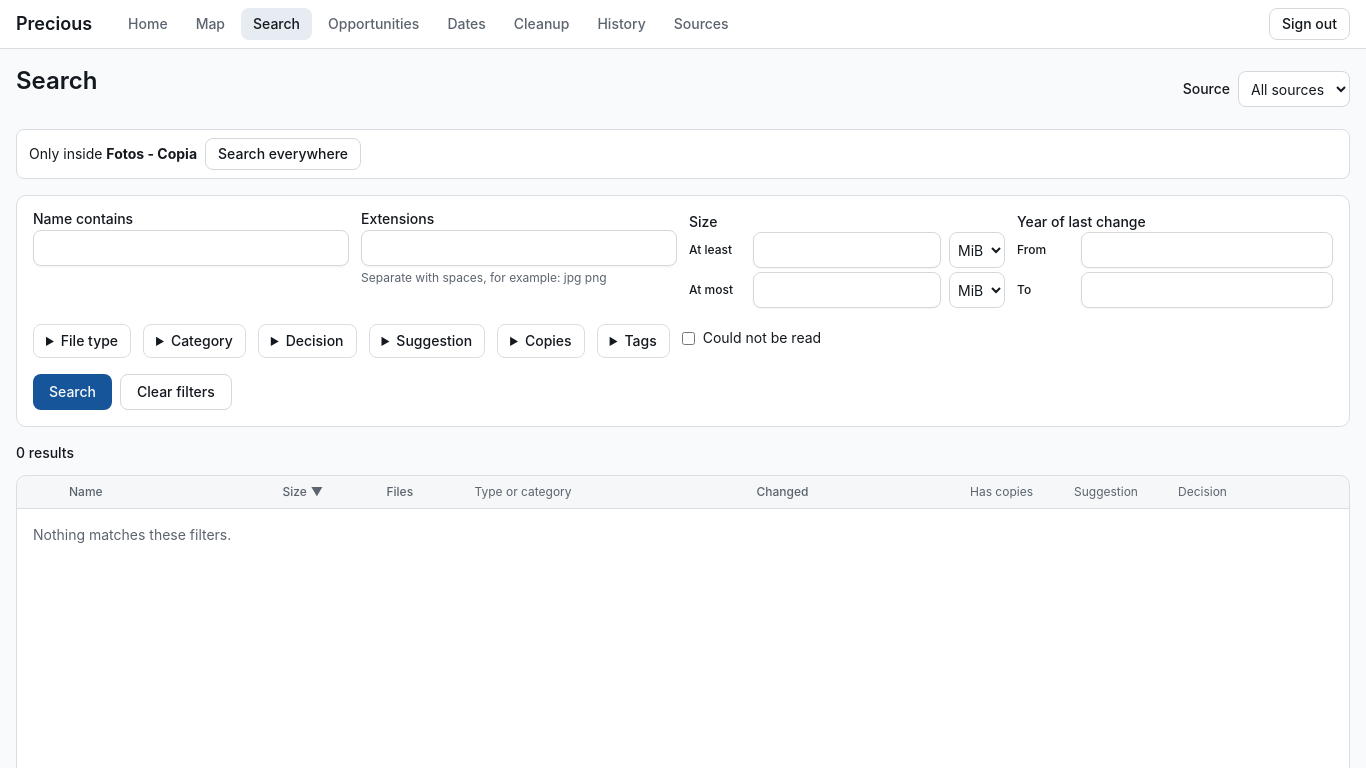
Test case: Search duplicate filter › searches by duplicate state, with copies outside only inside a folder
Click the heading "Copies": click(548, 340) [525,332,572,349]
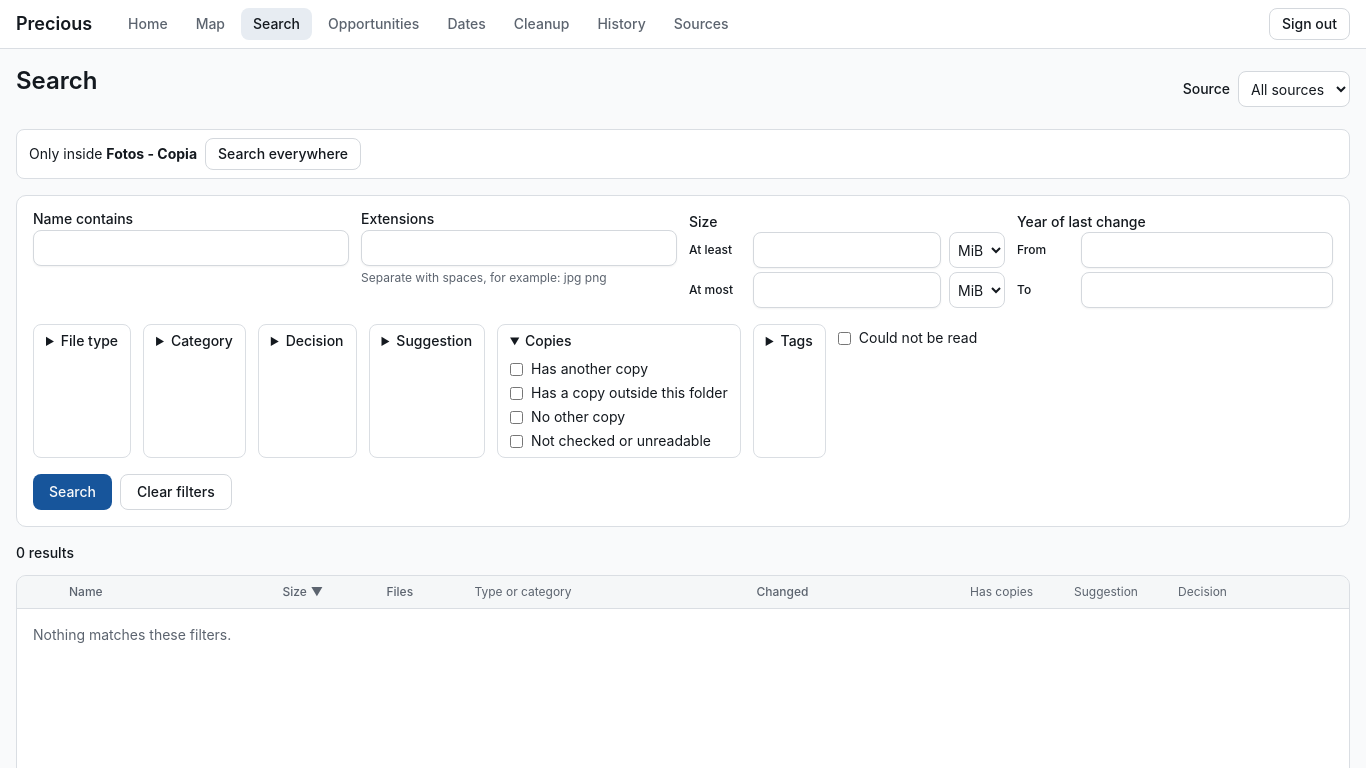
Click the checkbox labelled "Has a copy outside this folder": click(517, 393) [510,386,523,400]
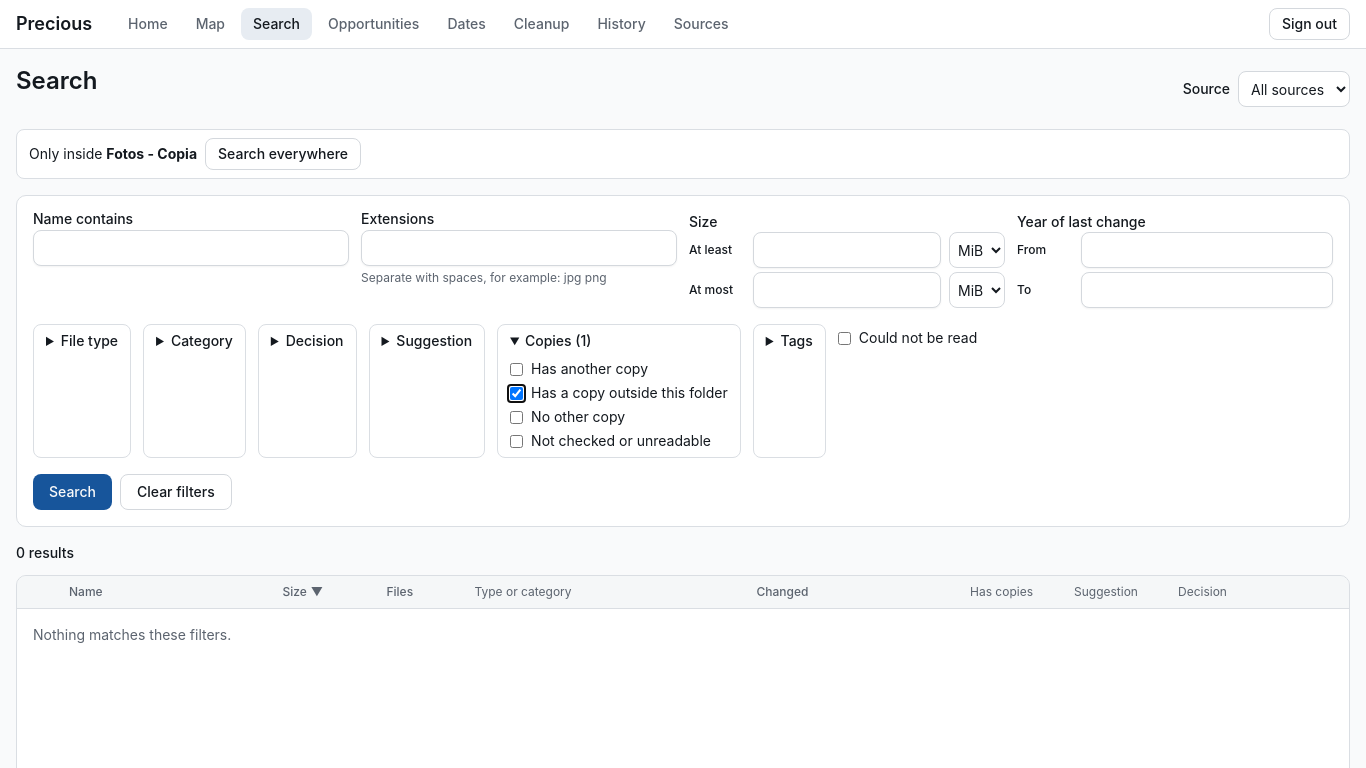
Click the button "Search": click(72, 492) [33,474,112,510]
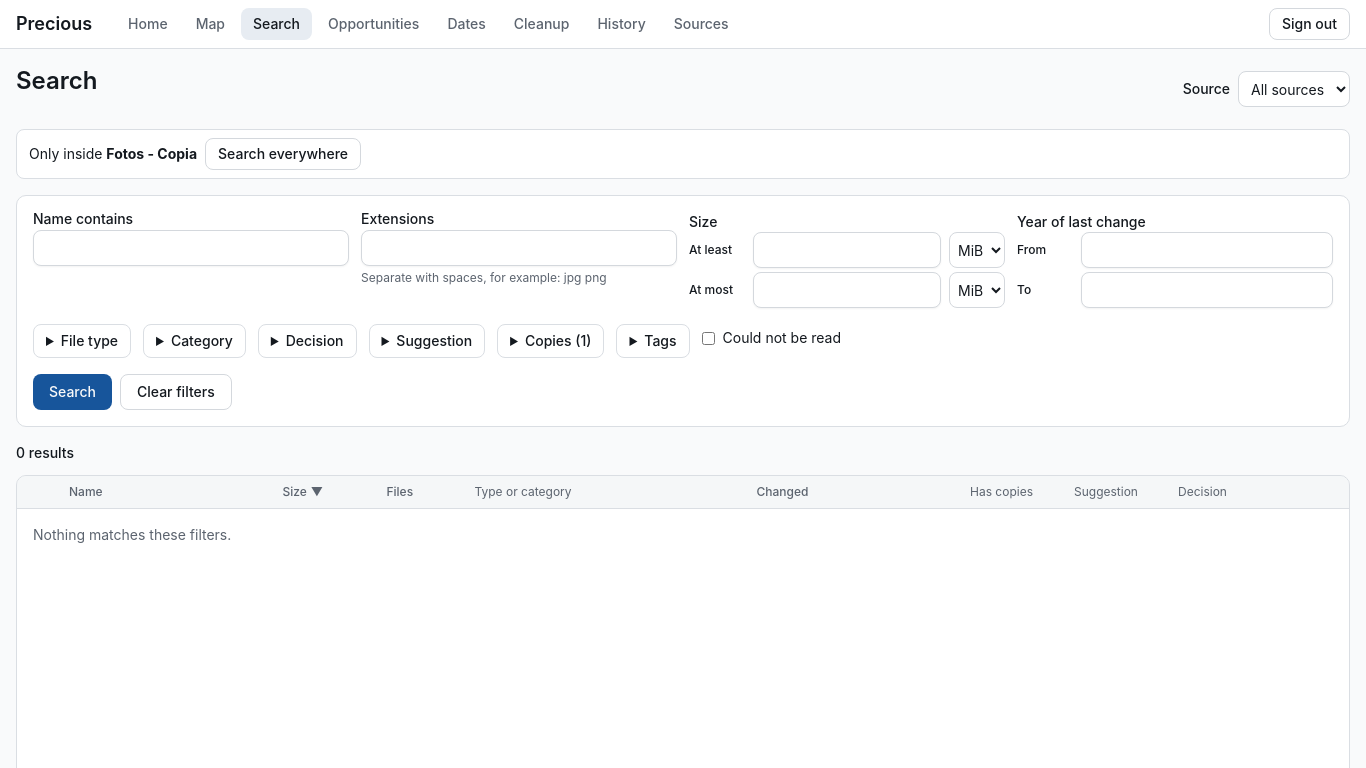
Click the button "Search everywhere": click(283, 154) [205,138,361,170]
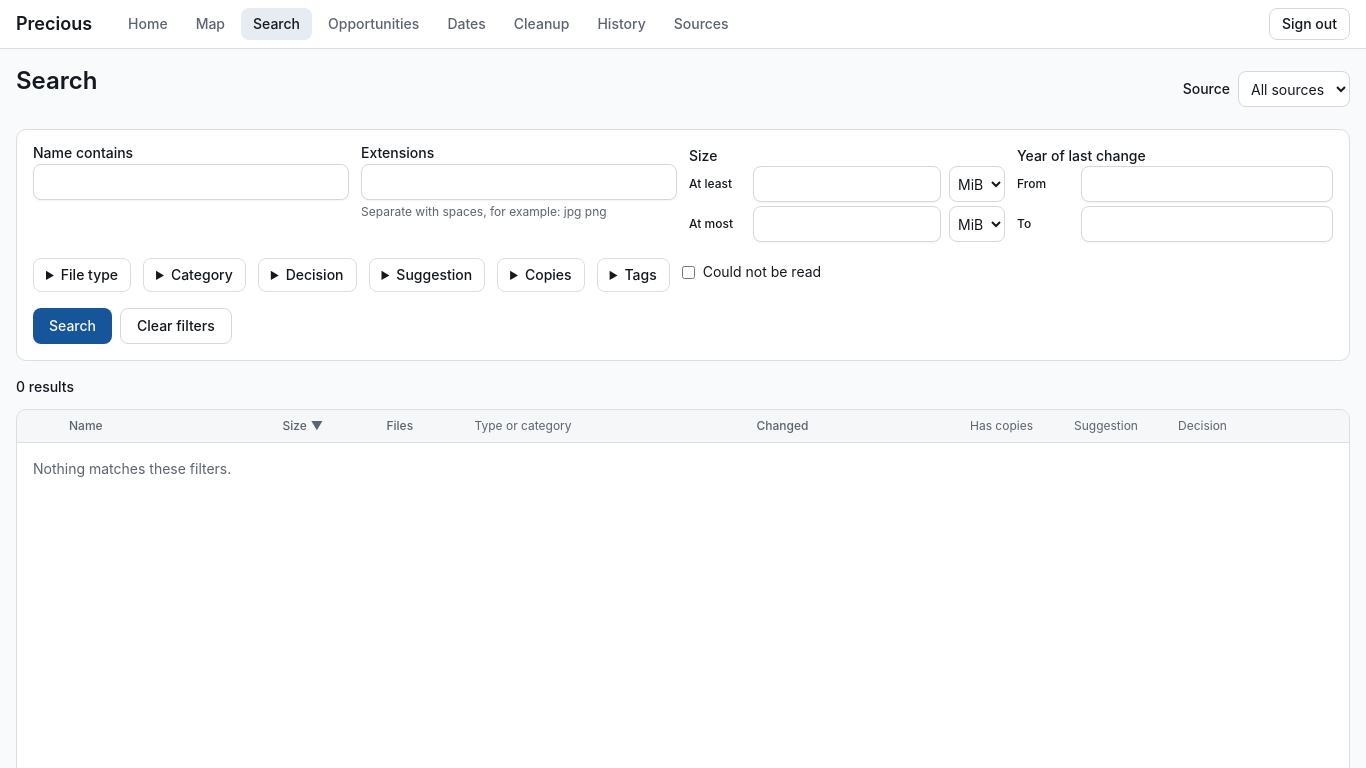
Click the heading "Copies": click(548, 274) [525,266,572,283]
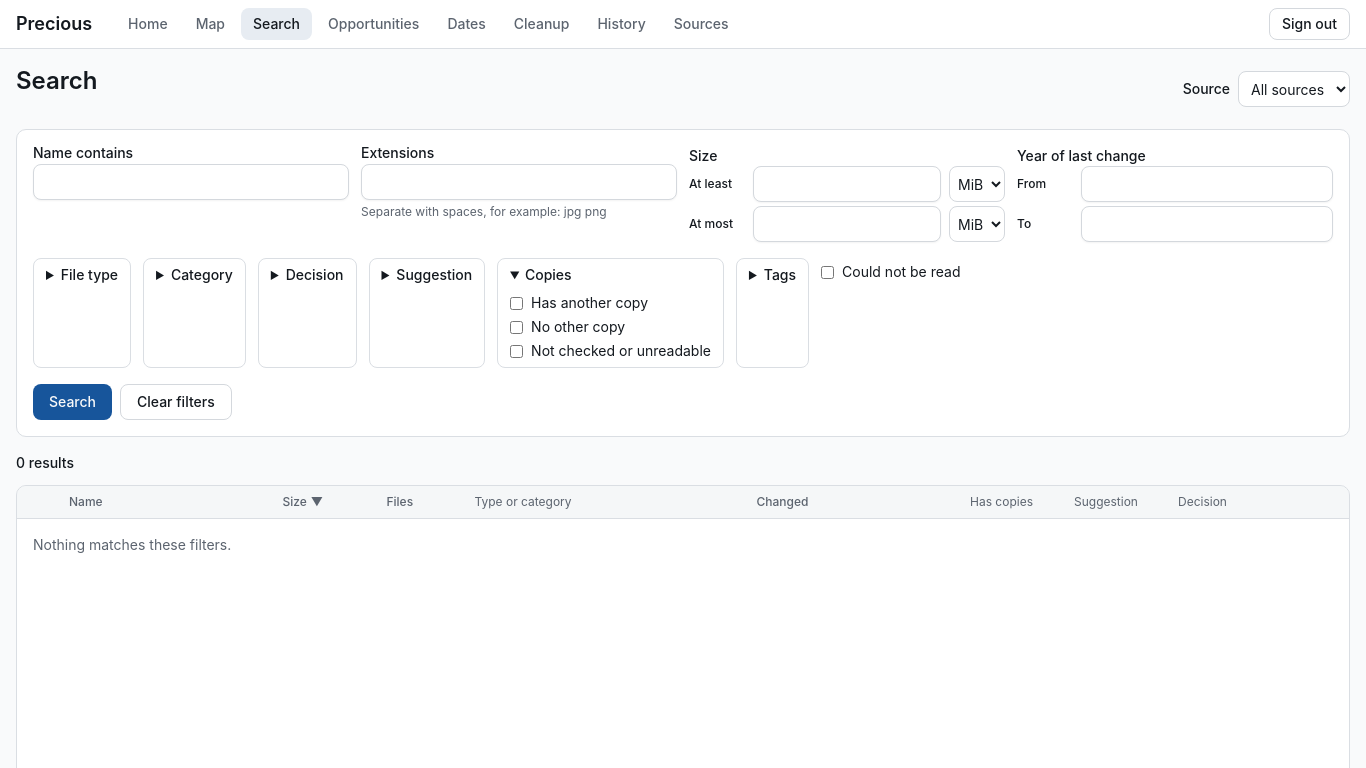
Expected: the label "Has a copy outside this folder" is not shown
Now the checkbox labelled "No other copy" is shown, box [510,320,523,334]
